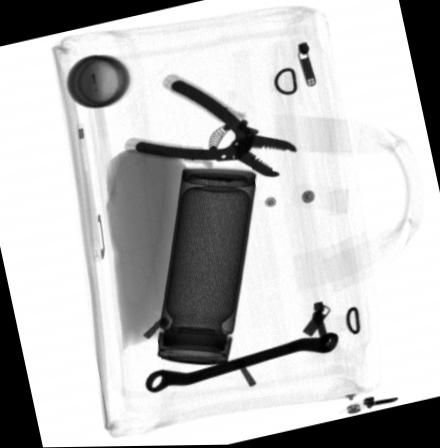Pliers: (121, 74, 299, 179)
Wrench: (143, 333, 336, 394)
